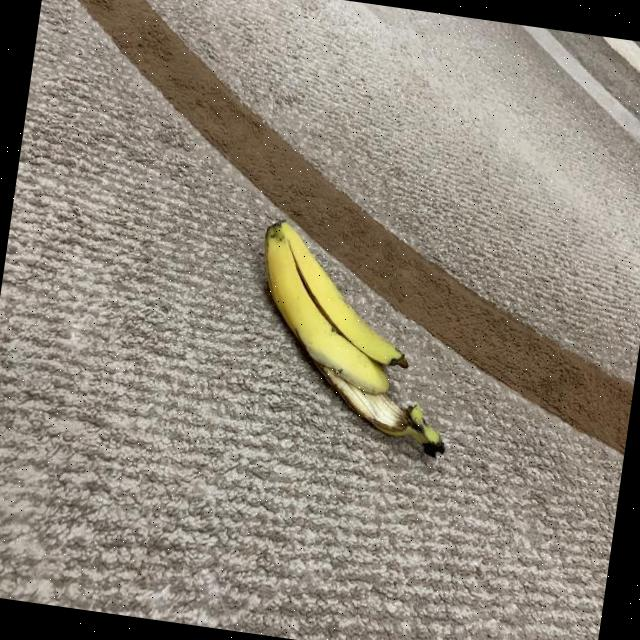banana-peel: (236, 216, 473, 460)
